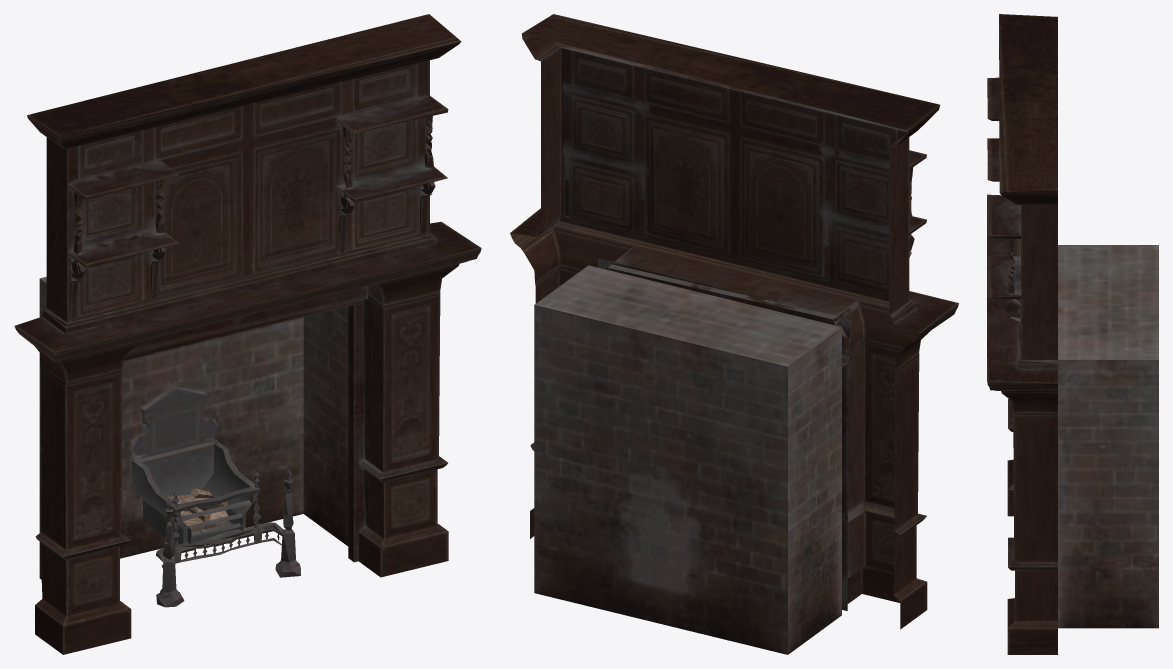
The model's file is fireplace-overmantel.lod1.glb.
3 views of the same model, side by side, from view 1: azimuth 30°, elevation 25°; view 2: azimuth 150°, elevation 25°; view 3: azimuth 270°, elevation 25° (orthographic). The views are drawn at different scales.
Visible parts, largest first — view 1: fireplace-overmantel; view 2: fireplace-overmantel; view 3: fireplace-overmantel.
Part boxes in pixels (<box>): fireplace-overmantel: <box>14,14,481,654</box>; fireplace-overmantel: <box>510,14,958,654</box>; fireplace-overmantel: <box>987,14,1158,654</box>.
Bounding box in the file's own units: 2.05 × 2.39 × 0.7941.
Materials: 1 (1 with a texture image).
